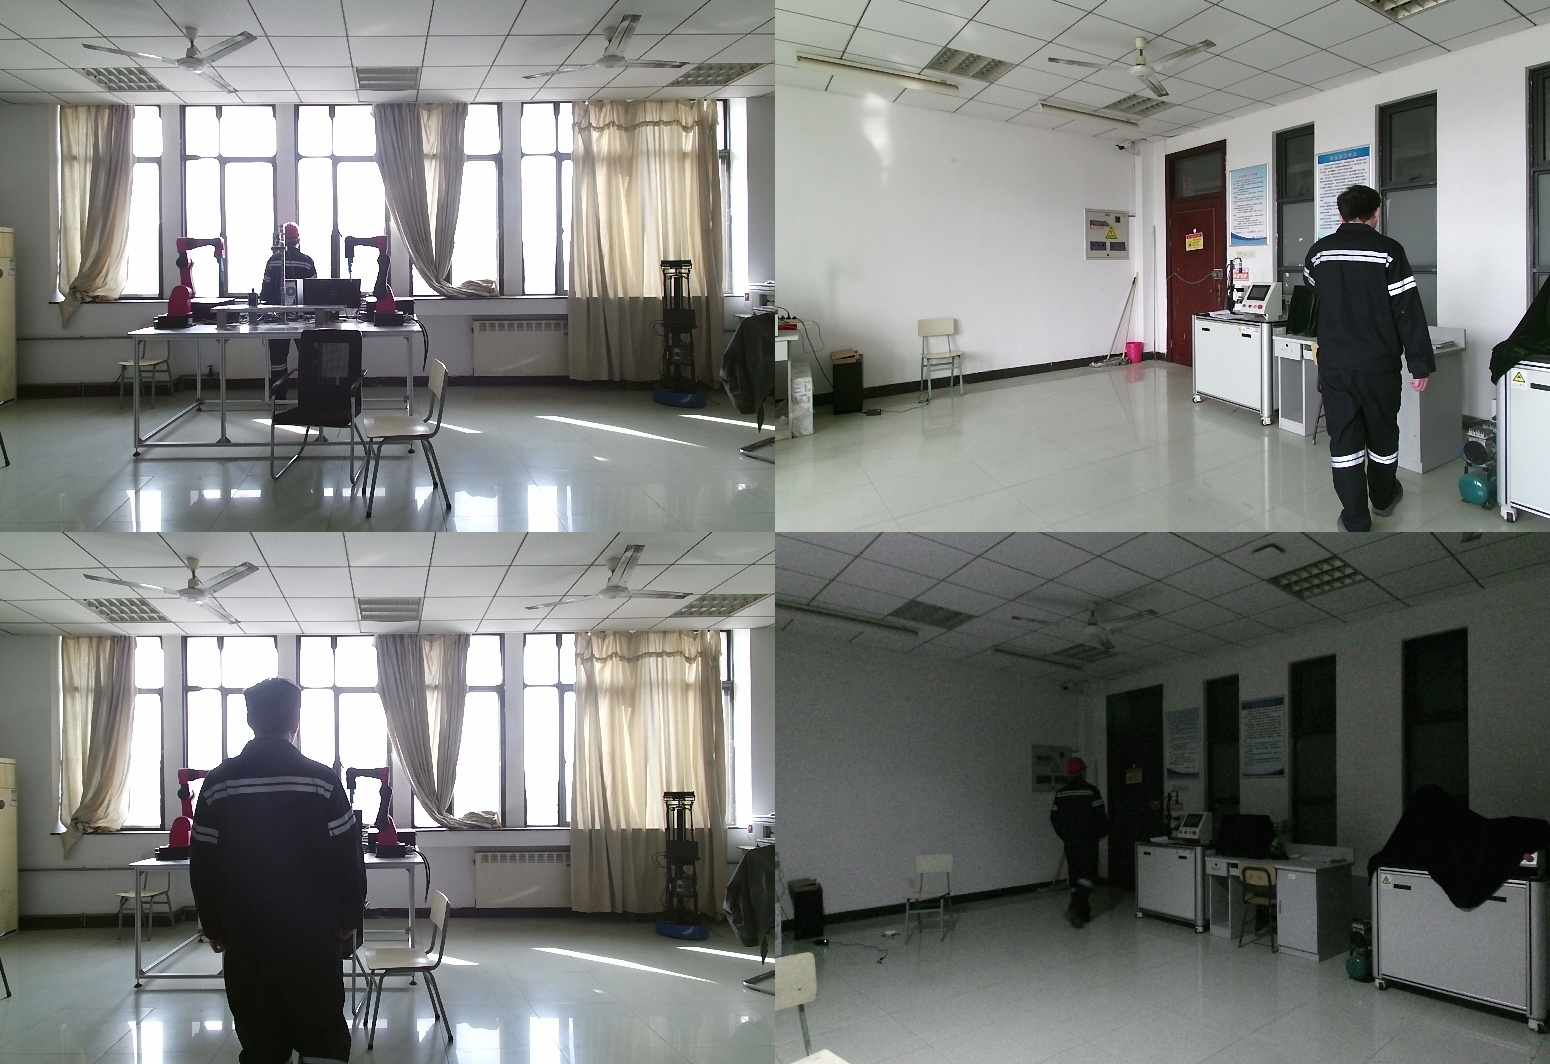person: (192, 679, 370, 1064), (1299, 189, 1450, 532), (262, 226, 326, 407), (1048, 759, 1113, 931)
